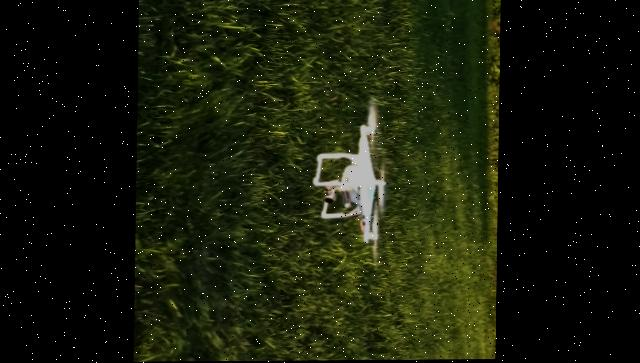drone: (311, 117, 390, 250)
